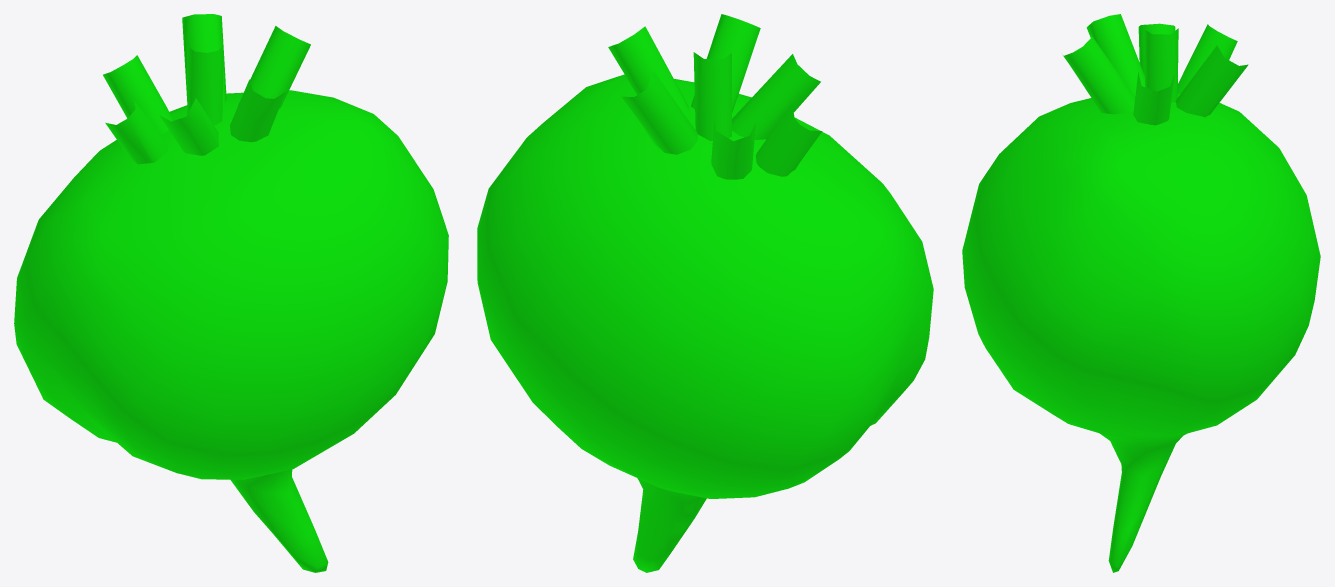
Rendered from SM_Beet.glb.
The picture shows the model from 3 angles, left to right: view 1: azimuth 30°, elevation 25°; view 2: azimuth 150°, elevation 25°; view 3: azimuth 270°, elevation 25°; orthographic projection. The views are drawn at different scales.
Parts seen in each view (by area): view 1: SM_Beet; view 2: SM_Beet; view 3: SM_Beet.
Part boxes in pixels (bbox=[...]): SM_Beet: bbox=[14, 14, 448, 572]; SM_Beet: bbox=[477, 14, 933, 572]; SM_Beet: bbox=[962, 14, 1320, 572].
Size of the model in its own units: 0.1136 by 0.1509 by 0.0973.
